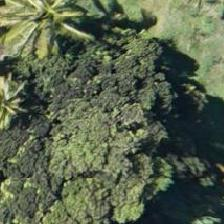coconut_tree: (33, 127, 123, 217), (0, 0, 88, 64), (0, 68, 47, 158)
